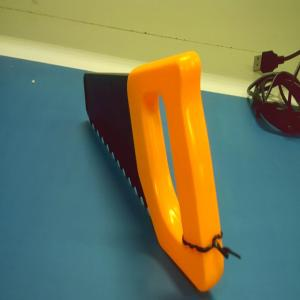serrote: (84, 50, 224, 291)
